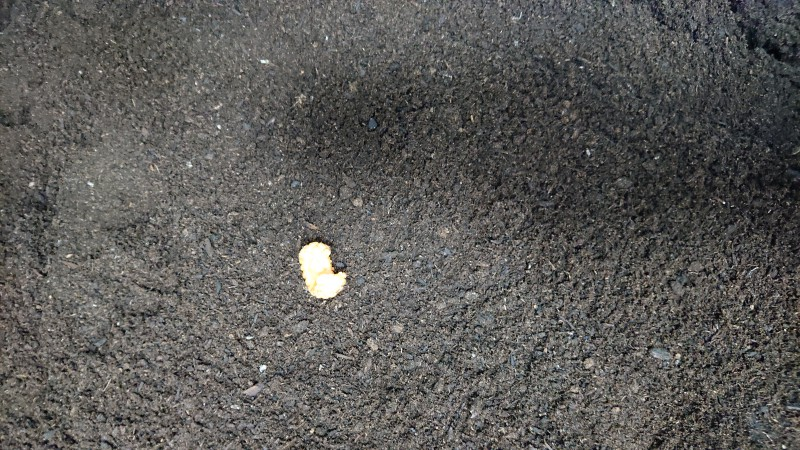eggs: (294, 241, 349, 303)
